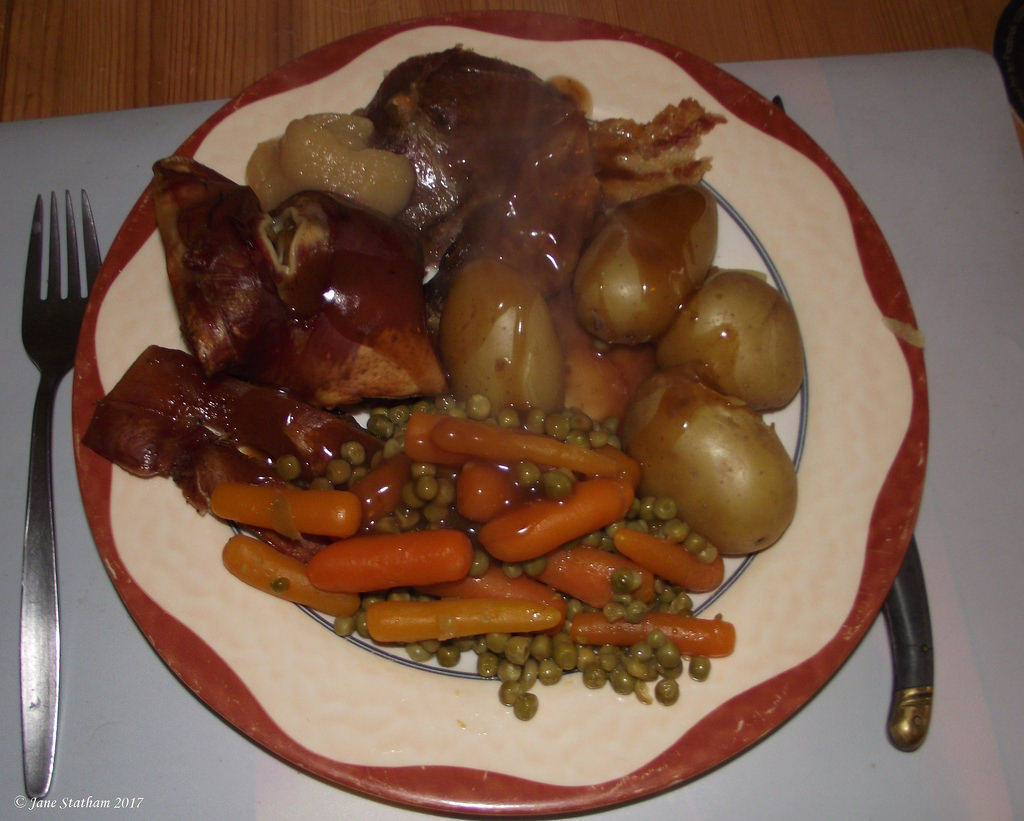boiled peas: (470, 643, 617, 681)
boiled potatoes: (458, 243, 801, 520)
